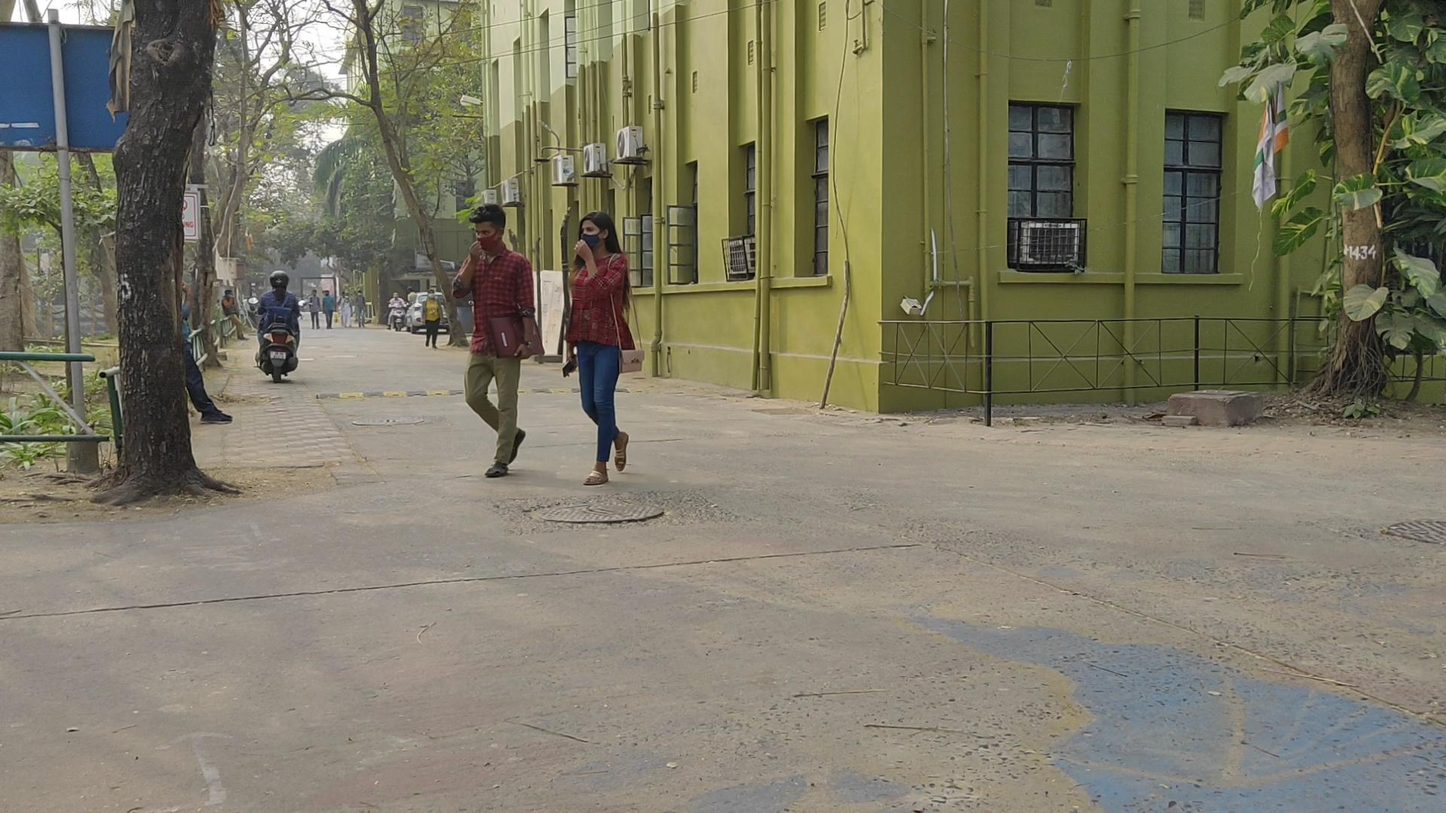bike: (257, 269, 305, 386), (387, 292, 407, 331)
car: (404, 291, 450, 335)
